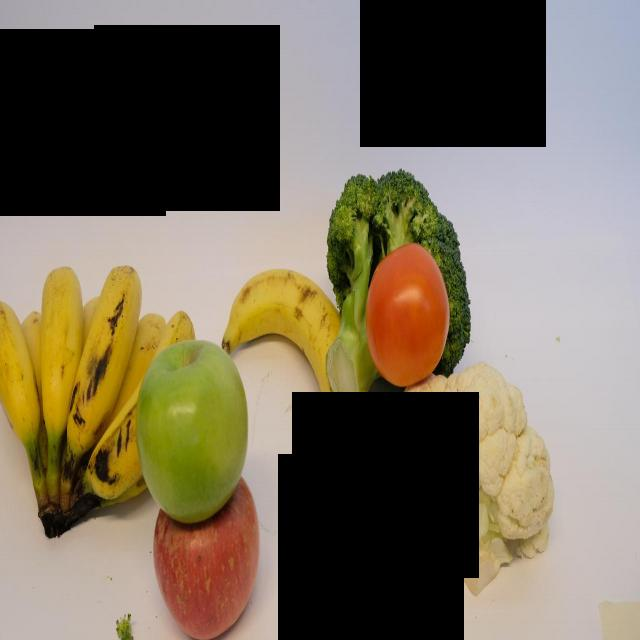apple: (136, 338, 248, 523), (151, 473, 261, 638)
banana: (220, 260, 369, 469), (74, 238, 138, 461), (38, 254, 84, 500), (0, 273, 46, 517)
broccoli: (325, 165, 471, 408)
cauliflower: (371, 361, 555, 598)
tomato: (365, 240, 451, 388)
